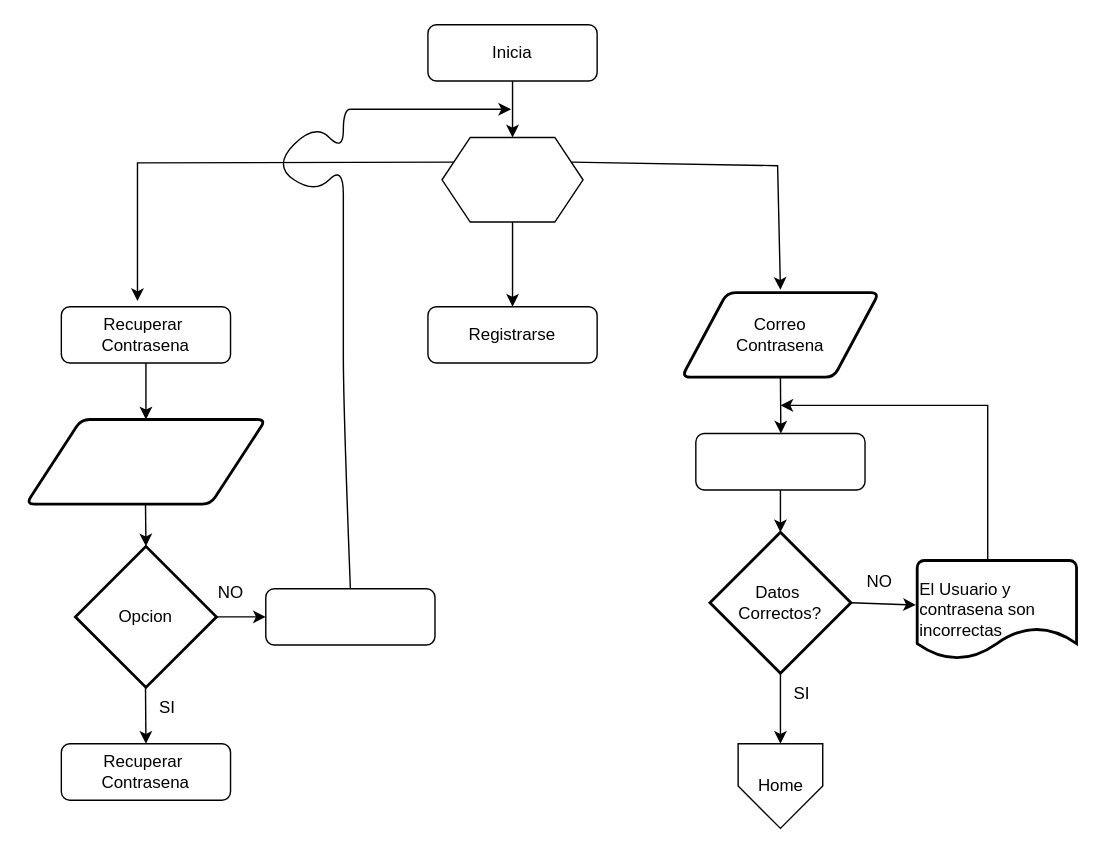
Some shapes in this 1101 by 853 pixel diagram are drawn without their labels. The shapes that lost their labels are listed below. From the top down, each one's centre as x and y in pixels, then its label:
At (512,179): "Login Register".
At (145,461): "Matricula Correo Institucional".
At (779,461): "Iniciar Sesion".
At (349,616): "Cancelar".
